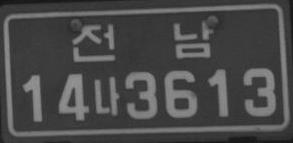1: (21, 73, 51, 123), (205, 67, 234, 118)
3: (242, 66, 277, 118), (124, 70, 158, 120)
4: (57, 72, 89, 122)
6: (163, 69, 199, 119)
나: (93, 75, 120, 116)
전남_D: (71, 18, 214, 63)
